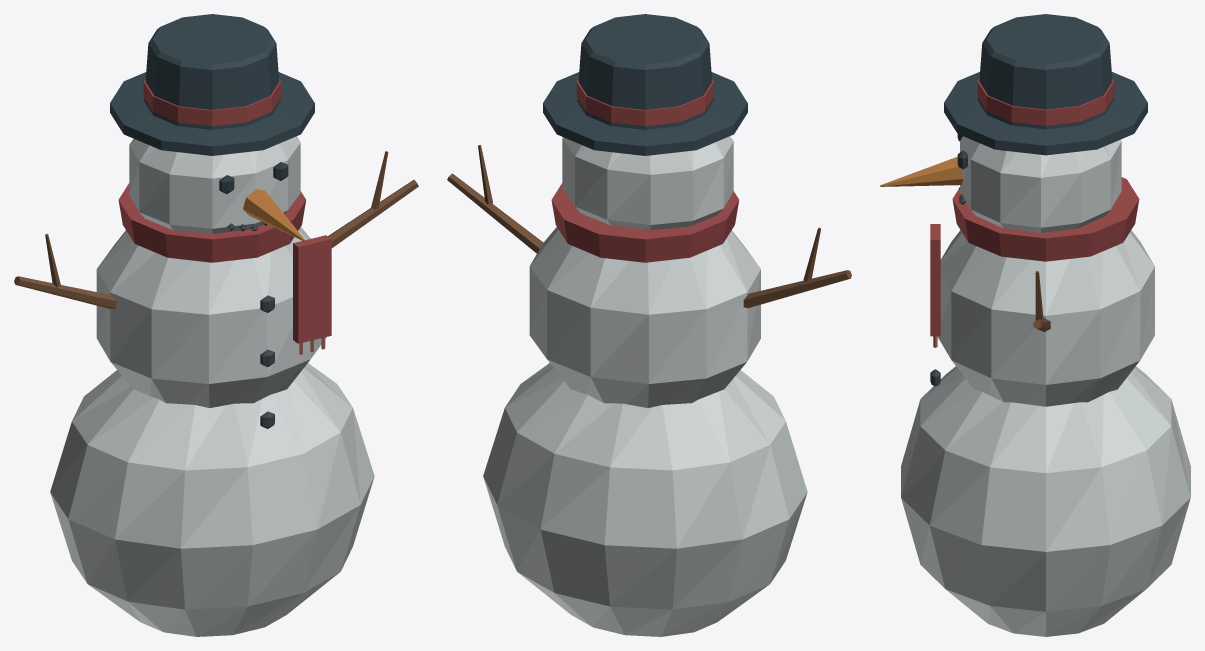
Rendered from snowman.glb.
3 renders of one model, left to right at view 1: azimuth 30°, elevation 25°; view 2: azimuth 150°, elevation 25°; view 3: azimuth 270°, elevation 25°, orthographic.
Parts seen in each view (by area): view 1: decoration; view 2: decoration; view 3: decoration.
Part boxes in pixels (<box>): decoration: <box>14,14,418,636</box>; decoration: <box>447,14,851,636</box>; decoration: <box>880,14,1190,636</box>.
Bounding box in the file's own units: 1.01 × 1.4 × 0.6783.
